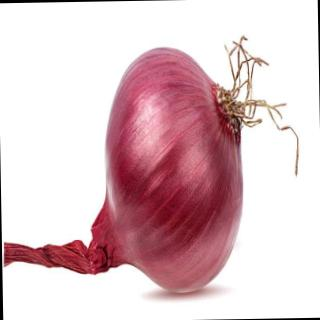Bawang Merah: (86, 37, 258, 304)
